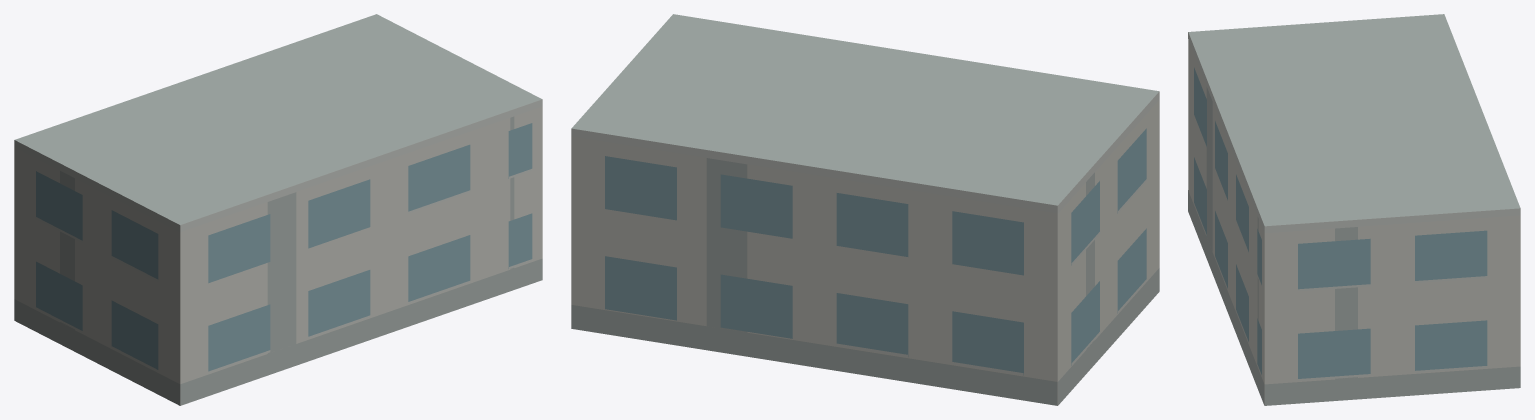
Rendered from residential-a6c79bb5-e2eb-4f4c-a95e-cb012927c359.glb.
3 renders of one model, left to right at view 1: azimuth 30°, elevation 25°; view 2: azimuth 150°, elevation 25°; view 3: azimuth 270°, elevation 25°, orthographic. The views are drawn at different scales.
Parts seen in each view (by area): view 1: residential-a6c79bb5-e2eb-4f4c-a95e-cb012927c359.tmp; view 2: residential-a6c79bb5-e2eb-4f4c-a95e-cb012927c359.tmp; view 3: residential-a6c79bb5-e2eb-4f4c-a95e-cb012927c359.tmp.
Boxes of the visible parts, x1=… form: residential-a6c79bb5-e2eb-4f4c-a95e-cb012927c359.tmp: x1=14, y1=14, x2=542, y2=405; residential-a6c79bb5-e2eb-4f4c-a95e-cb012927c359.tmp: x1=571, y1=14, x2=1159, y2=405; residential-a6c79bb5-e2eb-4f4c-a95e-cb012927c359.tmp: x1=1188, y1=14, x2=1520, y2=405.
Size of the model in its own units: 15.47 by 6.1 by 10.24.
